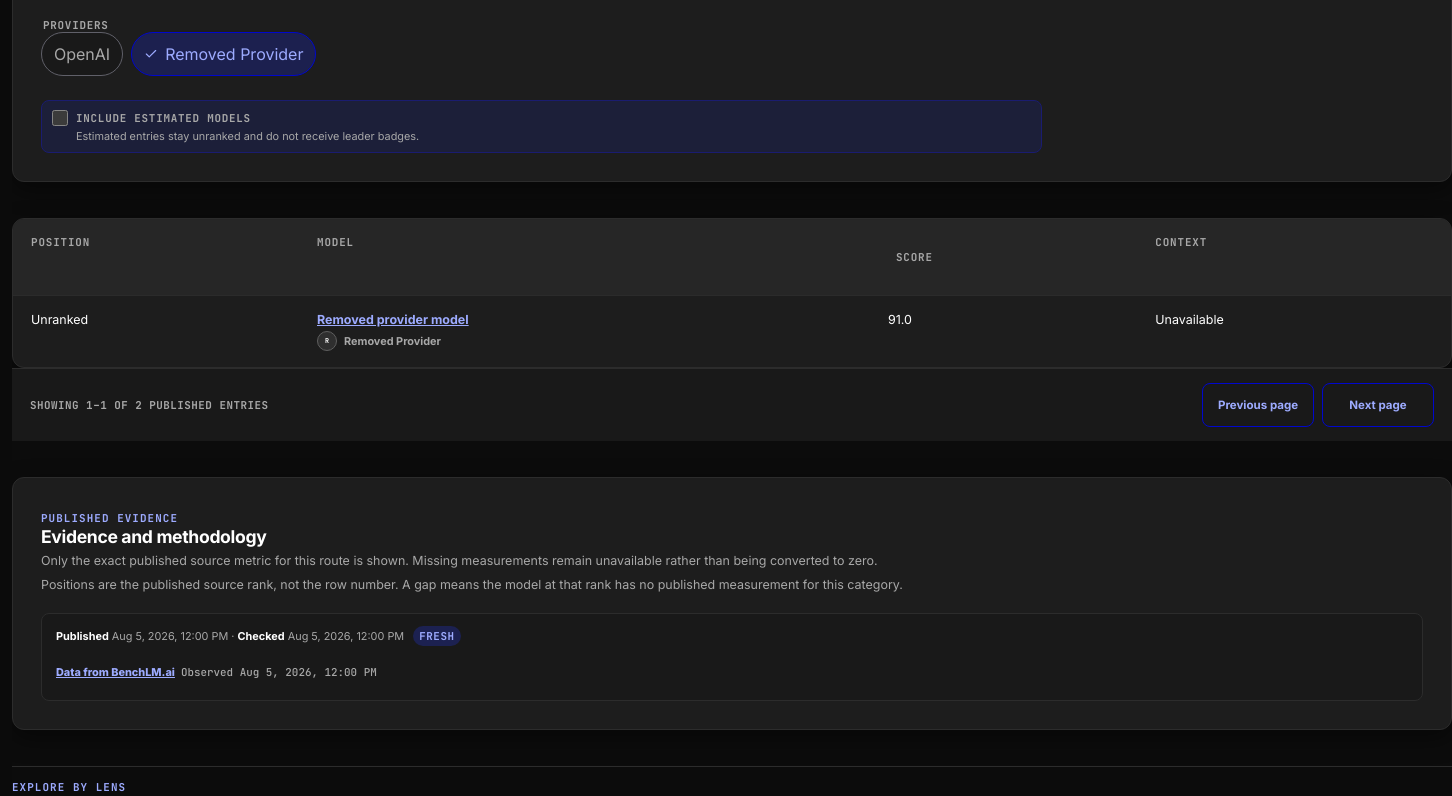
Test: LeaderboardPage › drops an active provider removed by the revision before stale-cursor recovery rebuilds page one
(page scrolled)
Click the button "Next page" at (1378, 405), box [1322,383,1434,427]
(page scrolled)
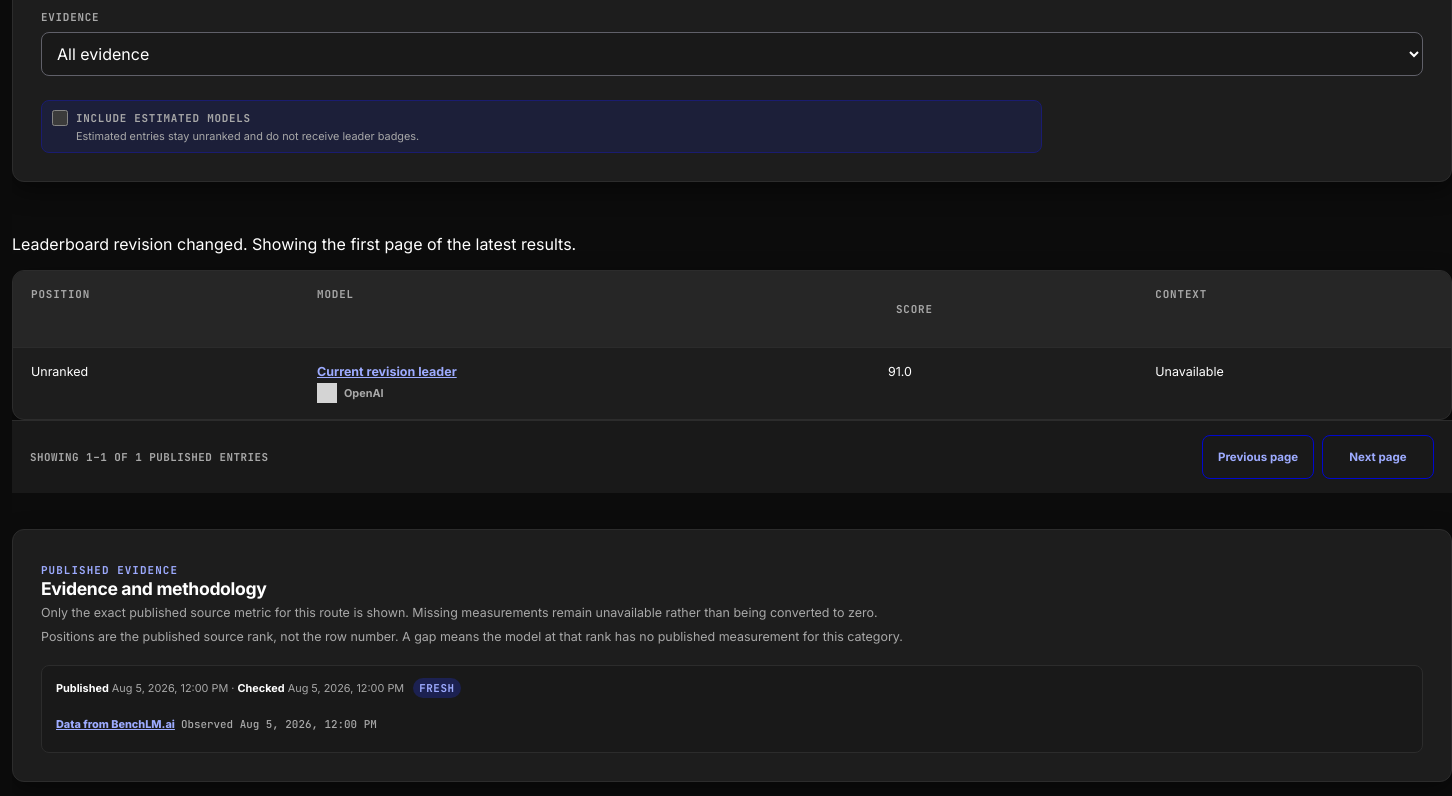
expect the text "Leaderboard revision changed. Showing the first page of the latest results." is shown: met, box [12,234,576,254]
